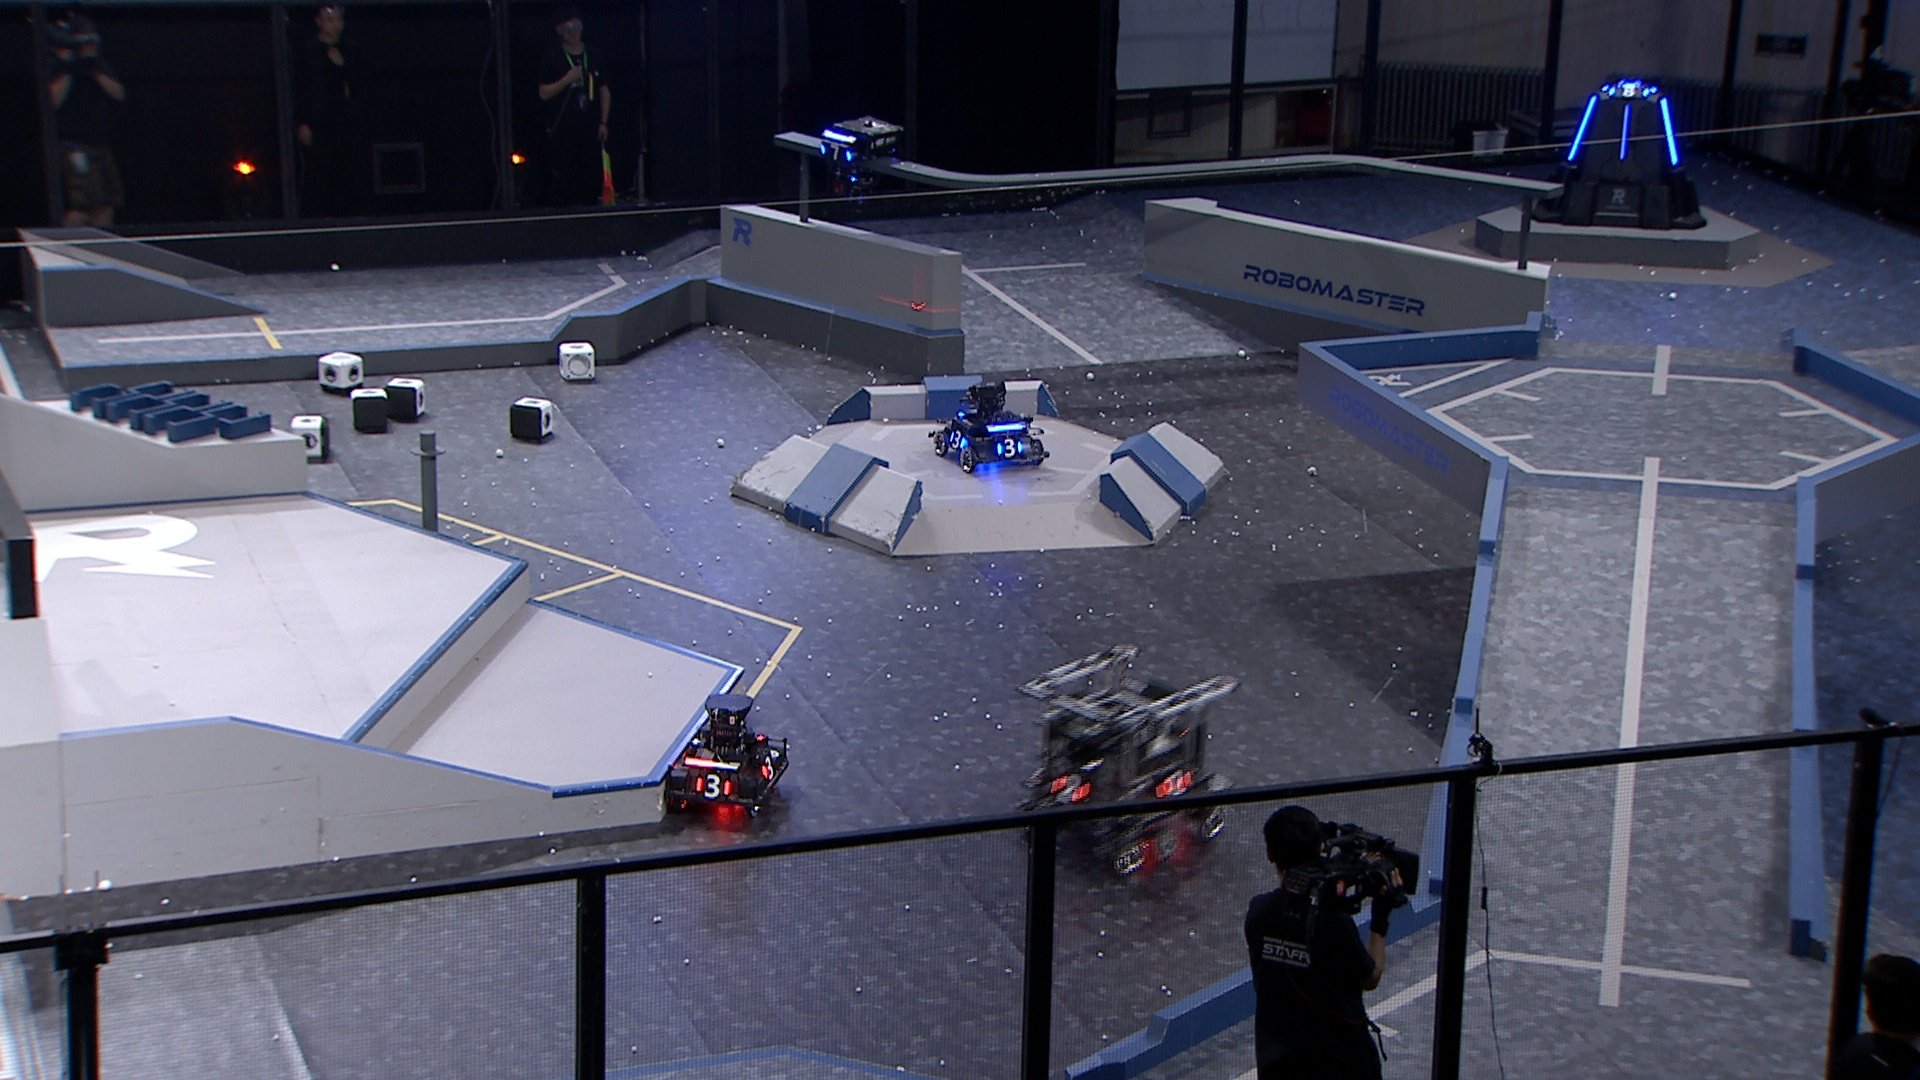armor: (1563, 94, 1600, 162), (1659, 95, 1680, 166), (1048, 773, 1087, 806), (694, 770, 732, 802), (1615, 98, 1633, 162), (1155, 770, 1192, 798), (814, 140, 855, 164), (1605, 82, 1654, 102), (756, 752, 779, 781), (993, 436, 1025, 458), (948, 429, 965, 451)
base: (1528, 76, 1709, 235)
car: (1013, 638, 1240, 876), (662, 688, 795, 823), (930, 375, 1054, 473)
watcher: (808, 109, 901, 207)
